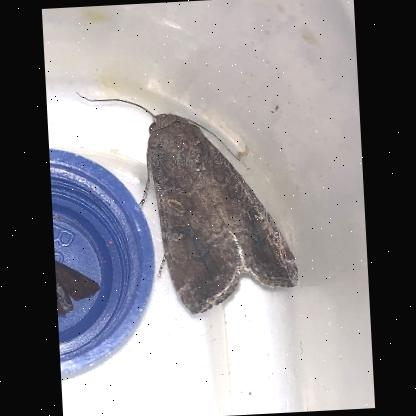Fall Armyworm Moth: (73, 78, 304, 324), (54, 249, 106, 325)
